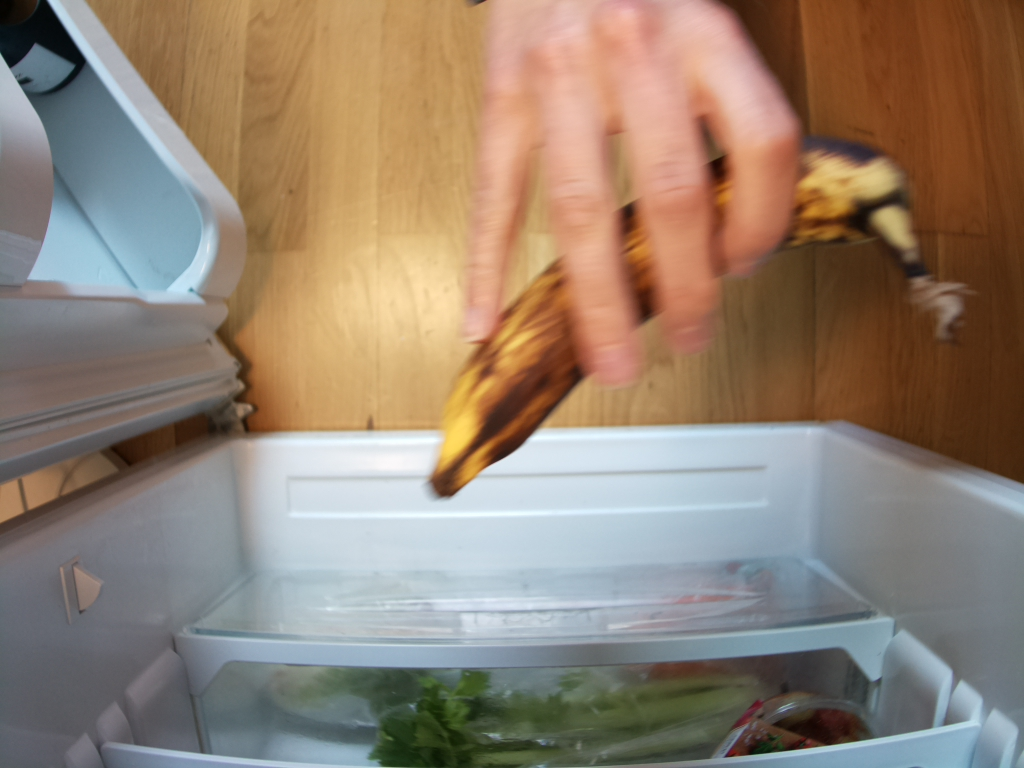banana-overripe: (431, 135, 961, 498)
